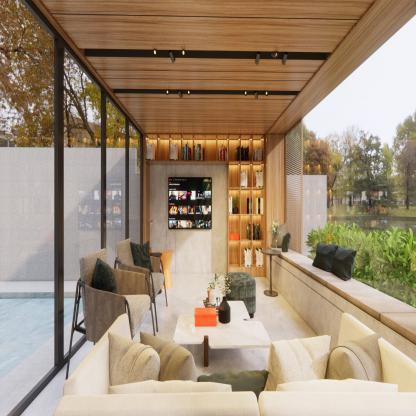kursi: (70, 252, 154, 342)
sova: (62, 319, 416, 416)
